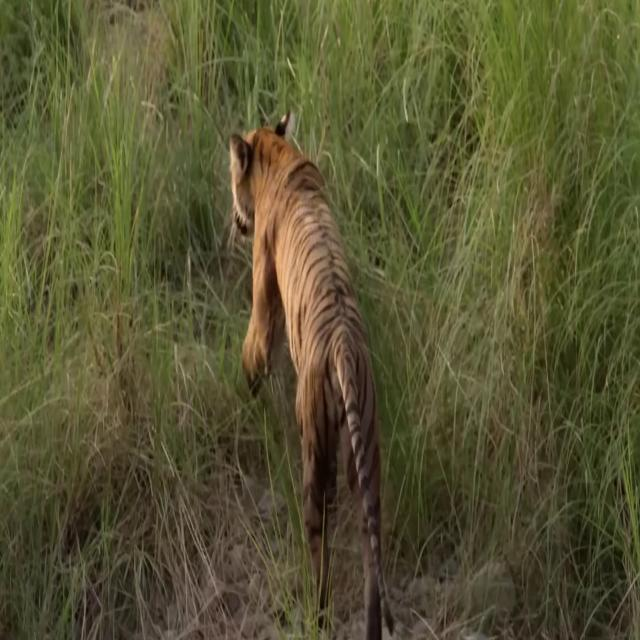tiger: (227, 106, 395, 640)
